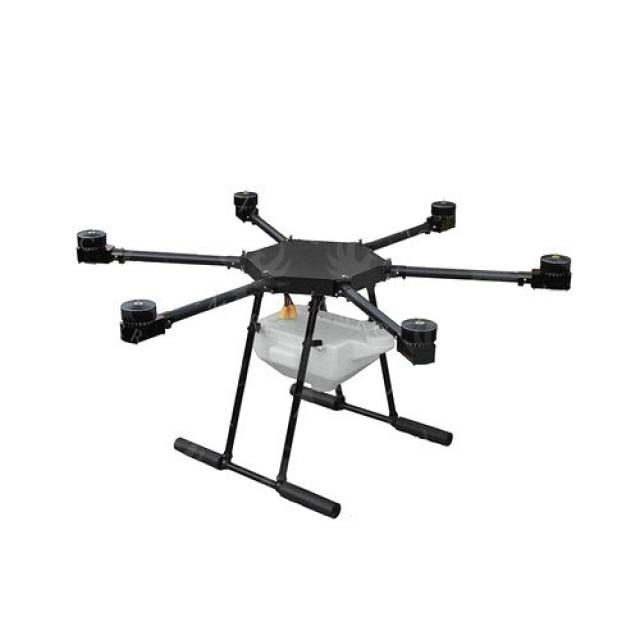drone: (39, 145, 599, 520)
